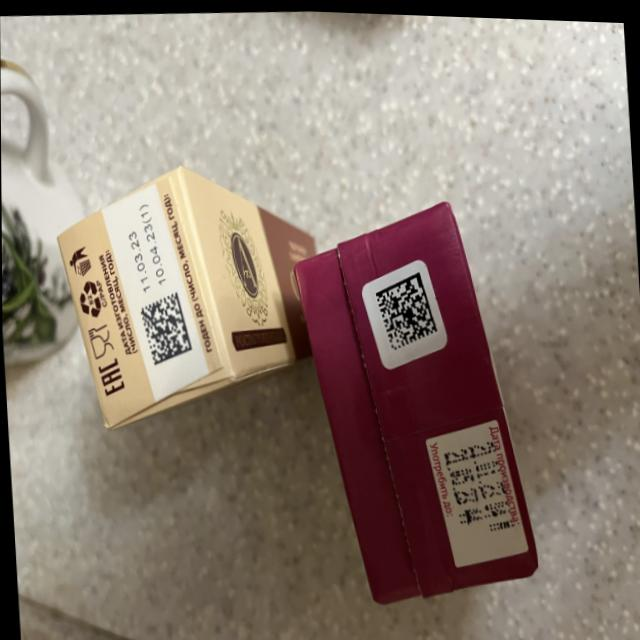datamatrix: (375, 267, 439, 350), (140, 289, 194, 368)
